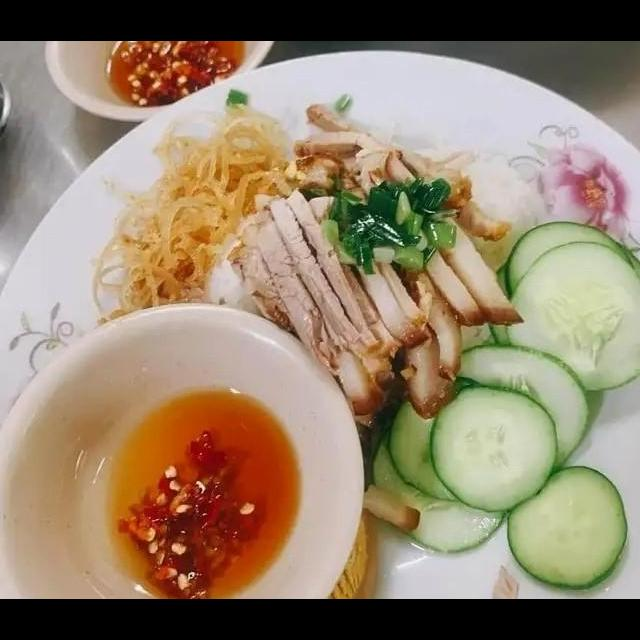bi: (84, 102, 300, 333)
com: (198, 213, 274, 323)
com suon: (112, 105, 640, 598)
suon: (220, 99, 530, 433)
